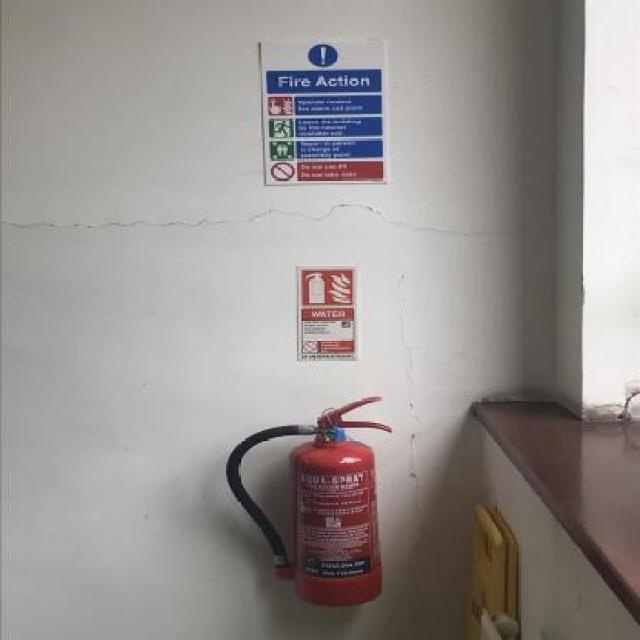fire extinguisher: (227, 397, 395, 608)
